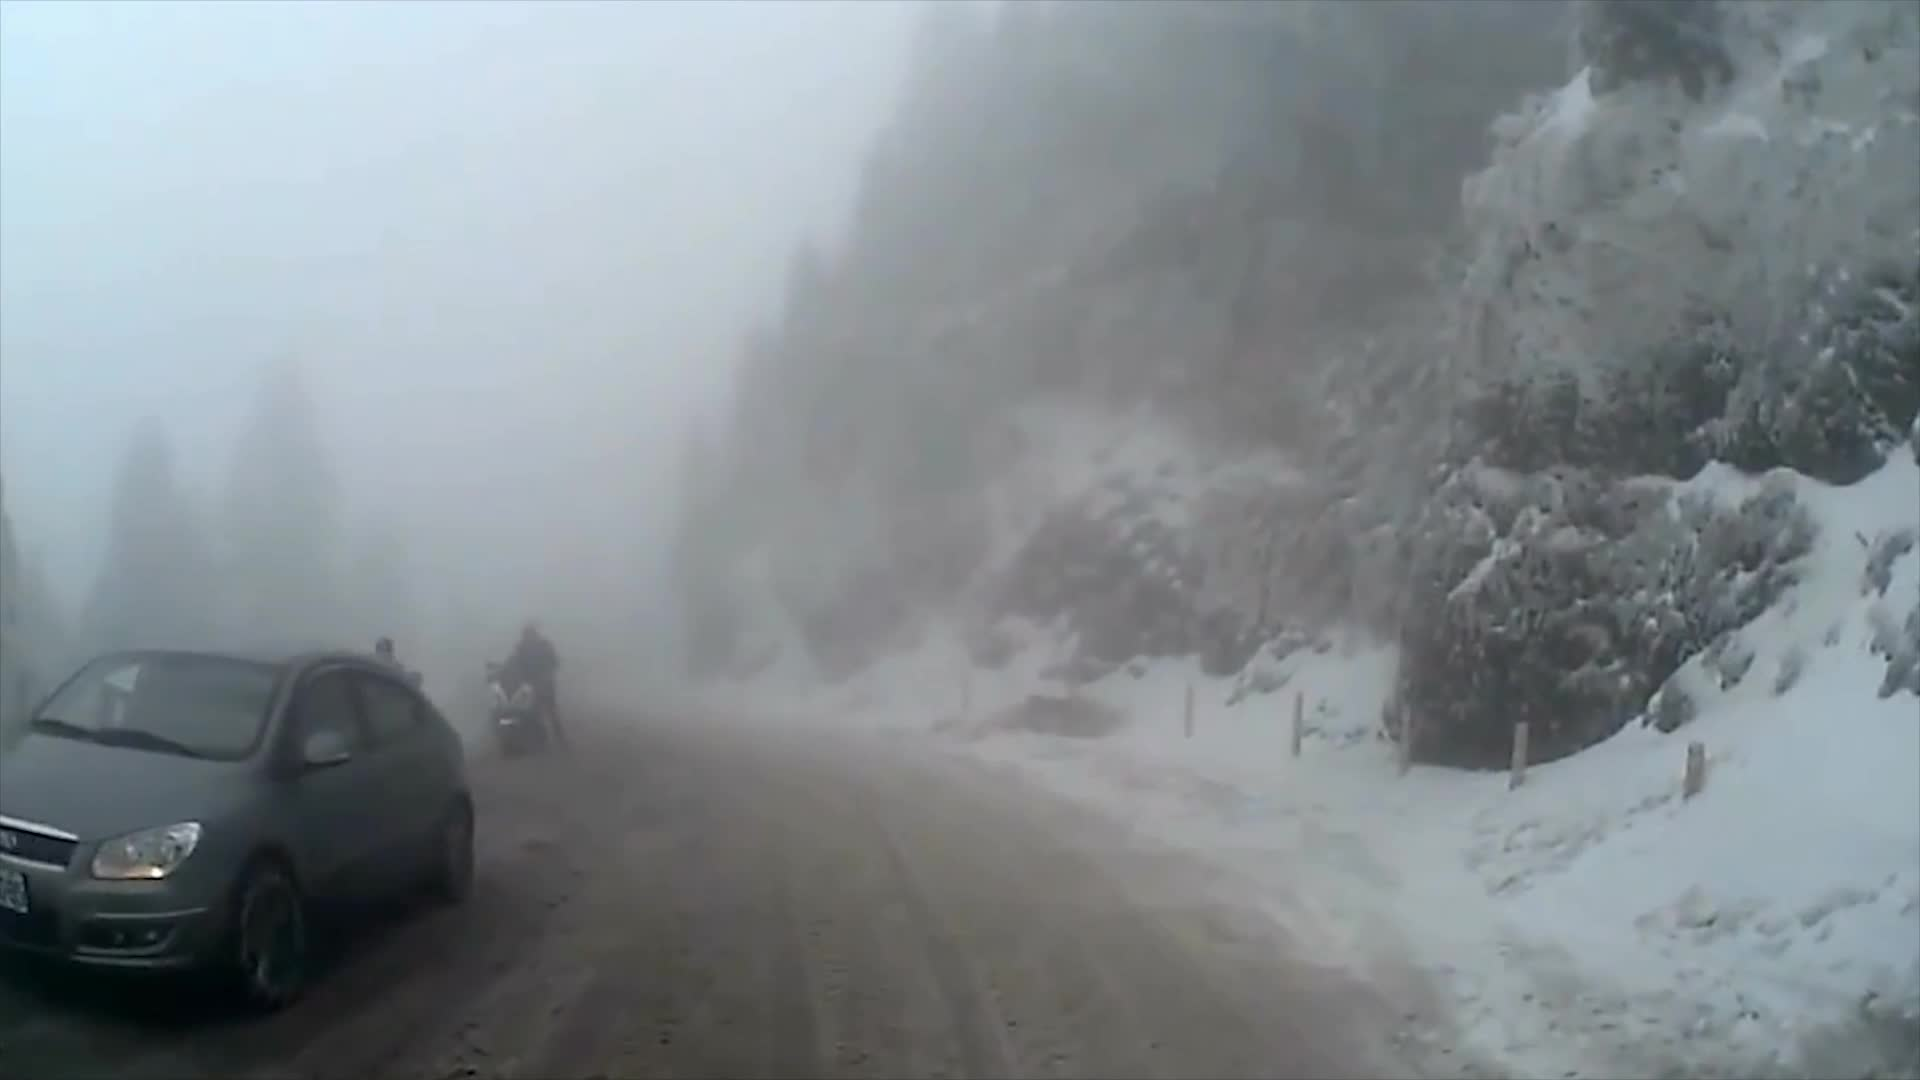pedestrian: (496, 611, 568, 740)
vehicle: (0, 640, 477, 1024)
